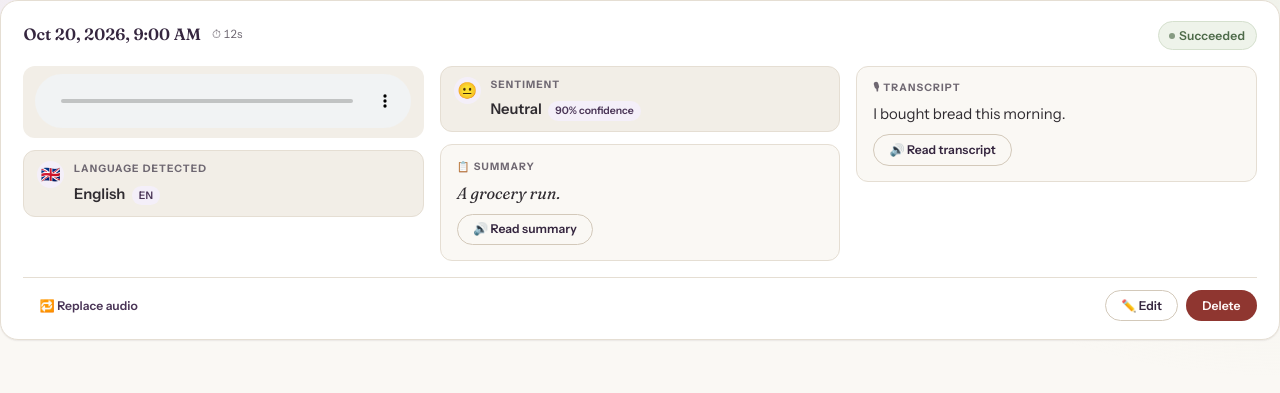
AudioEntryCard editing › cancelling discards the draft
Click the button with aria-label "edit the transcript" at point(1142, 306), box left=1105, top=290, right=1178, bottom=322
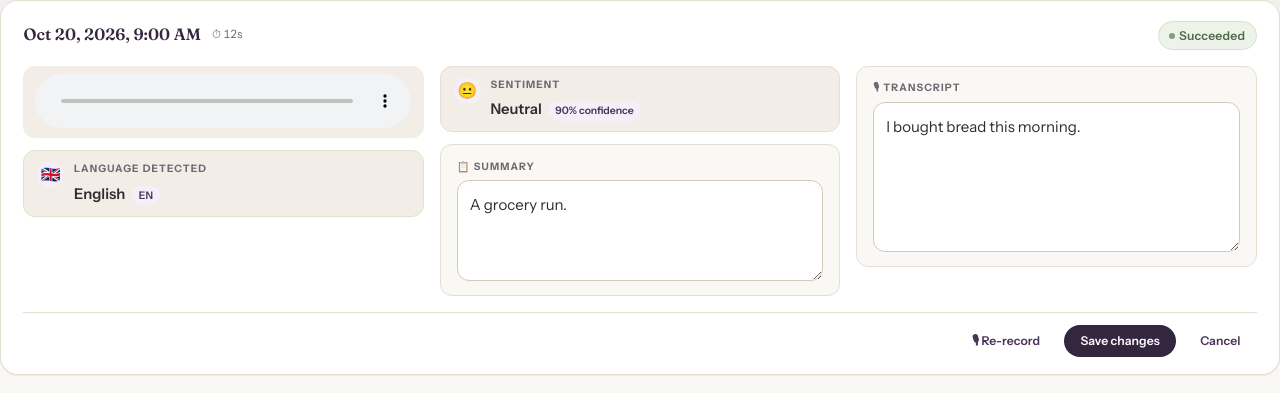
Replace the text in the text box named "Edit transcript" with "nope" at point(1056, 177), box left=873, top=102, right=1240, bottom=252
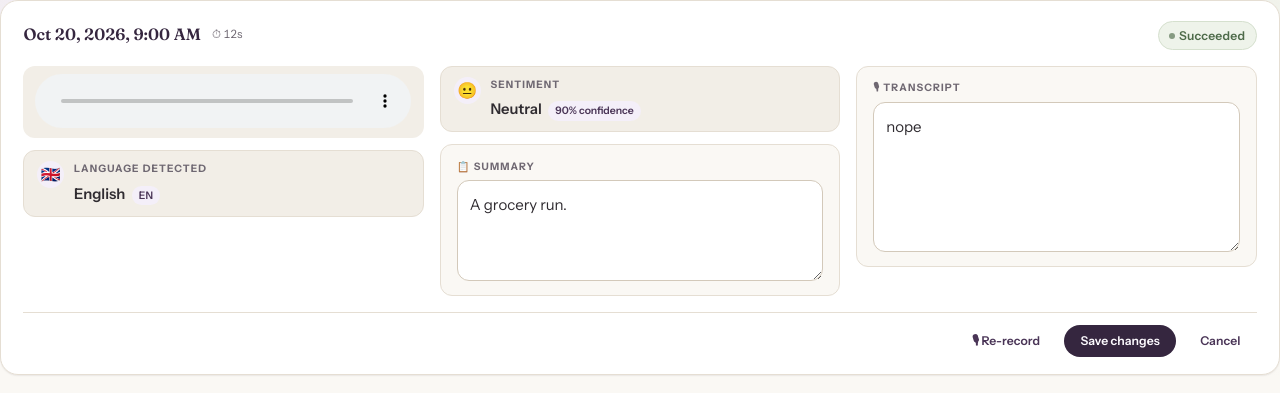
Click the button "Cancel" at point(1220, 341), box left=1184, top=325, right=1257, bottom=357
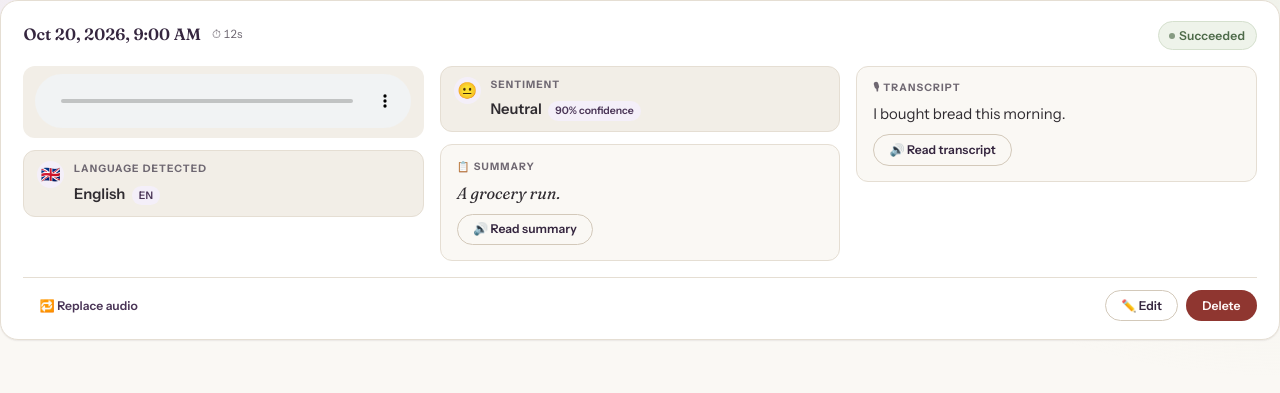
Expected: the text "I bought bread this morning." is shown, left=873, top=105, right=1066, bottom=123
